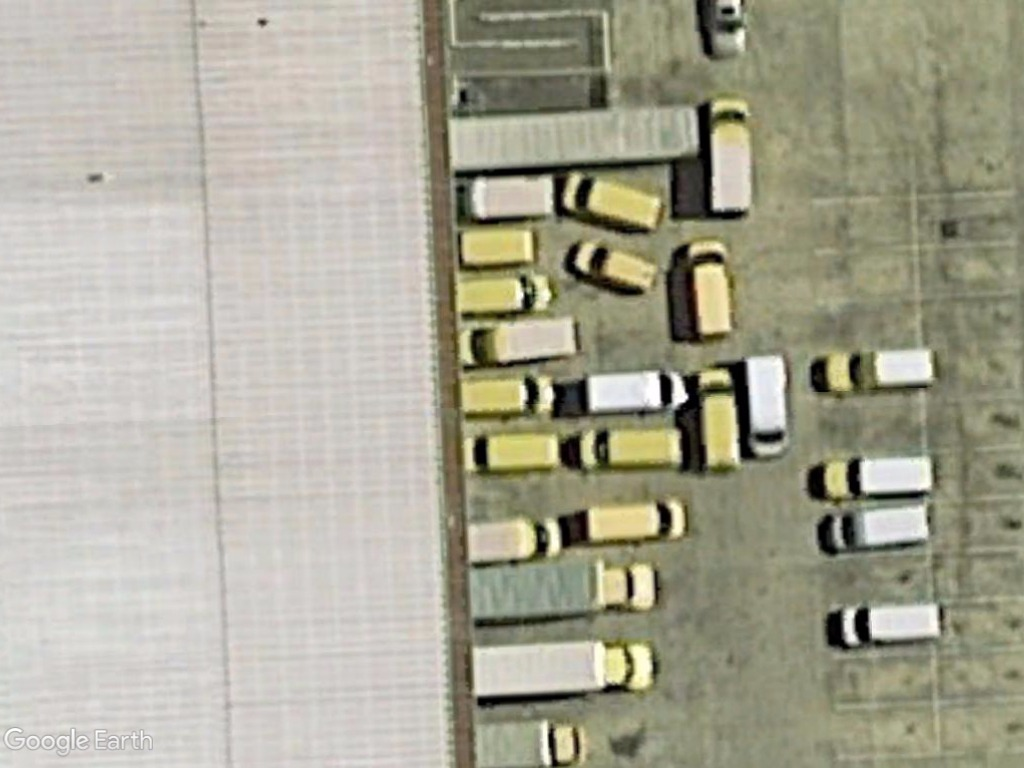truck: (467, 634, 667, 703), (466, 557, 661, 625)
van: (456, 309, 587, 371), (555, 169, 669, 236), (705, 91, 761, 222), (817, 501, 934, 556), (831, 601, 950, 655), (817, 453, 940, 505), (821, 346, 940, 399), (683, 234, 741, 340), (572, 424, 688, 475), (579, 365, 694, 416), (690, 361, 743, 471), (578, 497, 693, 547), (568, 237, 663, 297), (455, 371, 560, 424), (740, 352, 790, 463), (455, 268, 557, 321), (456, 431, 564, 478)
